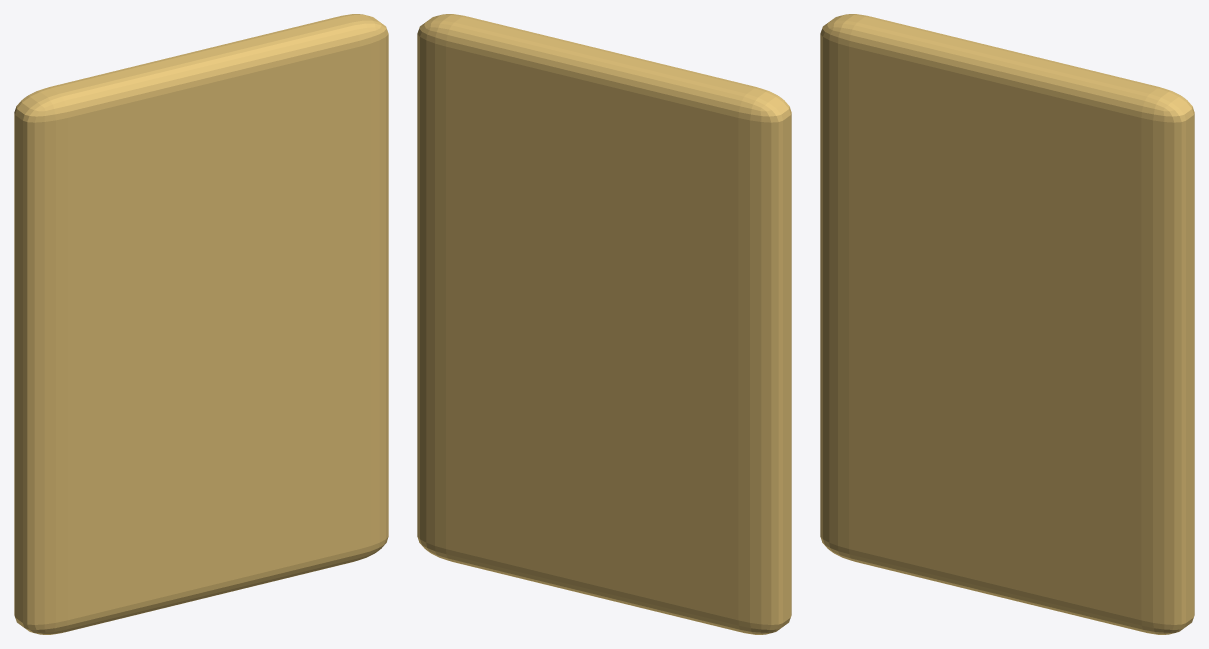
The model's file is Portal.fbx.
The picture shows the model from 3 angles, left to right: view 1: azimuth 30°, elevation 25°; view 2: azimuth 150°, elevation 25°; view 3: azimuth 330°, elevation 25°; orthographic projection.
Visible parts, largest first — view 1: portas; view 2: portas; view 3: portas.
Boxes of the visible parts, bbox=[...] form: portas: bbox=[14, 14, 388, 634]; portas: bbox=[417, 14, 791, 634]; portas: bbox=[820, 14, 1194, 634].
Bounding box in the file's own units: 161 × 226 × 18.77.
